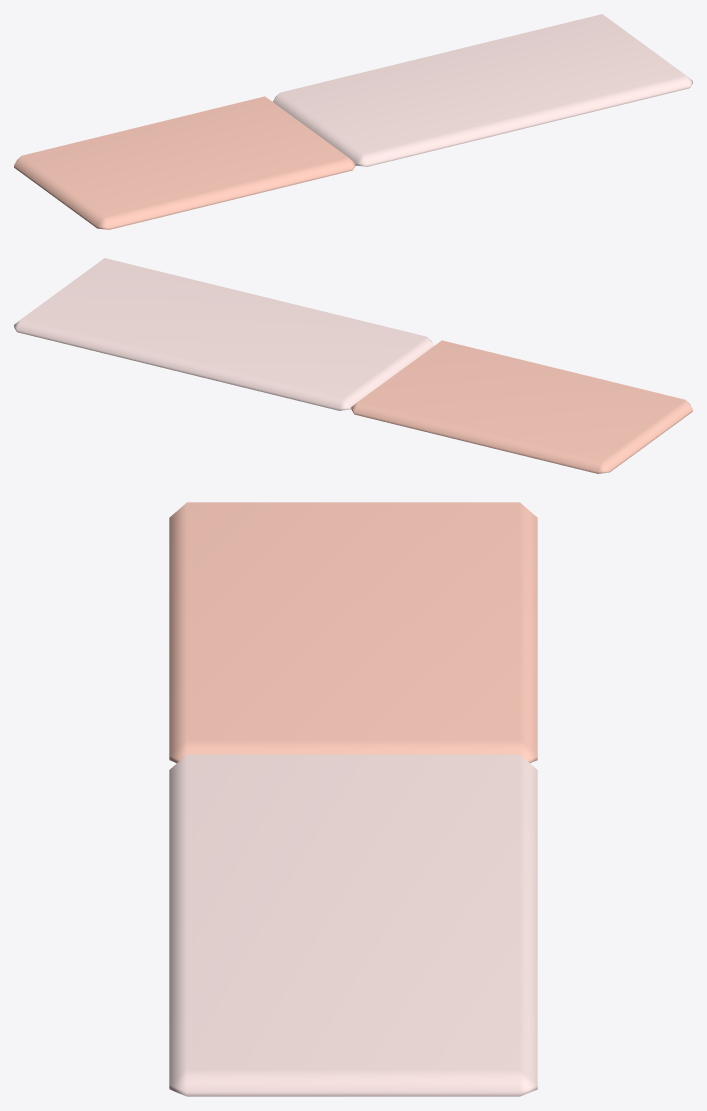
File: Farm_13_Path_3.glb
The picture shows the model from 3 angles, top to bottom: view 1: azimuth 30°, elevation 25°; view 2: azimuth 150°, elevation 25°; view 3: azimuth 270°, elevation 25°; orthographic projection. The views are drawn at different scales.
Visible parts, largest first — view 1: Farm_13_Path_3; view 2: Farm_13_Path_3; view 3: Farm_13_Path_3.
Part boxes in pixels (<box>): Farm_13_Path_3: <box>14,14,692,229</box>; Farm_13_Path_3: <box>14,258,692,473</box>; Farm_13_Path_3: <box>169,502,537,1096</box>.
Bounding box in the file's own units: 2.51 × 0.0404 × 0.6721.
Materials: 1 (1 with a texture image).
